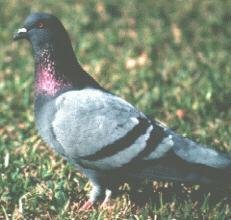Flying Rat: (11, 13, 231, 210)
